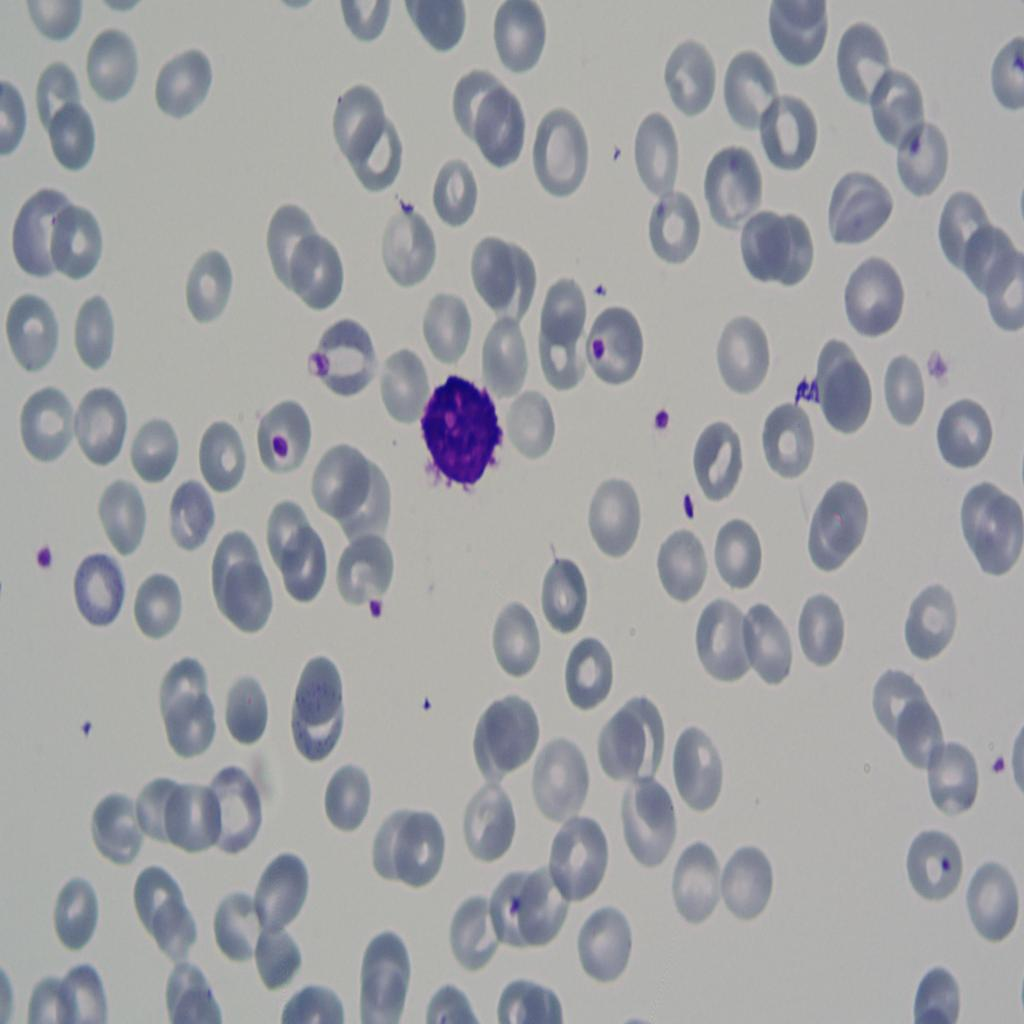Myeoblast: (413, 368, 513, 497)
Platelet: (302, 336, 347, 398), (363, 573, 396, 638), (645, 395, 674, 448), (68, 709, 100, 757), (264, 420, 294, 470), (582, 324, 613, 370), (32, 535, 64, 578), (671, 476, 698, 520), (905, 126, 930, 170), (412, 687, 438, 722), (934, 846, 956, 882), (925, 342, 944, 376), (986, 742, 1008, 766)
